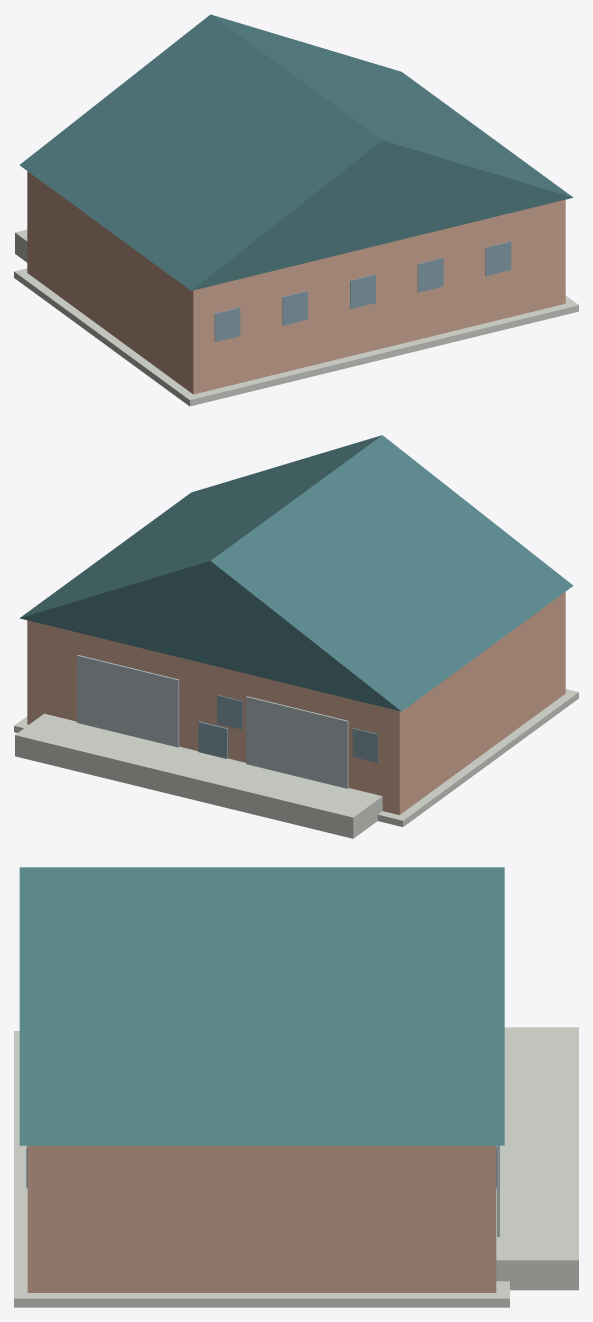
The model's file is cargo_warehouse.glb.
The picture shows the model from 3 angles, top to bottom: view 1: azimuth 30°, elevation 25°; view 2: azimuth 150°, elevation 25°; view 3: azimuth 270°, elevation 25°; orthographic projection. The views are drawn at different scales.
Parts seen in each view (by area): view 1: cargo_warehouse__roof, cargo_warehouse__walls, cargo_warehouse__plinth, cargo_warehouse__window.006, cargo_warehouse__window.008, cargo_warehouse__window, cargo_warehouse__window.004, cargo_warehouse__window.002; view 2: cargo_warehouse__roof, cargo_warehouse__walls, cargo_warehouse__loading_dock, cargo_warehouse__loading_door, cargo_warehouse__loading_door.001, cargo_warehouse__plinth, cargo_warehouse__front_door, cargo_warehouse__window.001, cargo_warehouse__window.005; view 3: cargo_warehouse__roof, cargo_warehouse__walls, cargo_warehouse__loading_dock, cargo_warehouse__plinth.
Part boxes in pixels (bbox=[...]): cargo_warehouse__roof: bbox=[19, 14, 572, 290]; cargo_warehouse__walls: bbox=[27, 171, 565, 394]; cargo_warehouse__plinth: bbox=[14, 268, 578, 406]; cargo_warehouse__window.006: bbox=[417, 258, 443, 292]; cargo_warehouse__window.008: bbox=[485, 241, 511, 275]; cargo_warehouse__window: bbox=[214, 307, 240, 342]; cargo_warehouse__window.004: bbox=[350, 274, 375, 309]; cargo_warehouse__window.002: bbox=[282, 291, 307, 325]; cargo_warehouse__roof: bbox=[20, 435, 573, 711]; cargo_warehouse__walls: bbox=[27, 592, 565, 814]; cargo_warehouse__loading_dock: bbox=[15, 713, 382, 838]; cargo_warehouse__loading_door: bbox=[246, 696, 348, 788]; cargo_warehouse__loading_door.001: bbox=[77, 655, 179, 747]; cargo_warehouse__plinth: bbox=[14, 689, 578, 826]; cargo_warehouse__front_door: bbox=[198, 721, 227, 758]; cargo_warehouse__window.001: bbox=[352, 728, 378, 762]; cargo_warehouse__window.005: bbox=[217, 695, 242, 729]; cargo_warehouse__roof: bbox=[19, 867, 504, 1145]; cargo_warehouse__walls: bbox=[27, 1145, 496, 1292]; cargo_warehouse__loading_dock: bbox=[496, 1027, 578, 1290]; cargo_warehouse__plinth: bbox=[14, 1031, 509, 1307].
Size of the model in its own units: 23 by 12.28 by 20.5.
